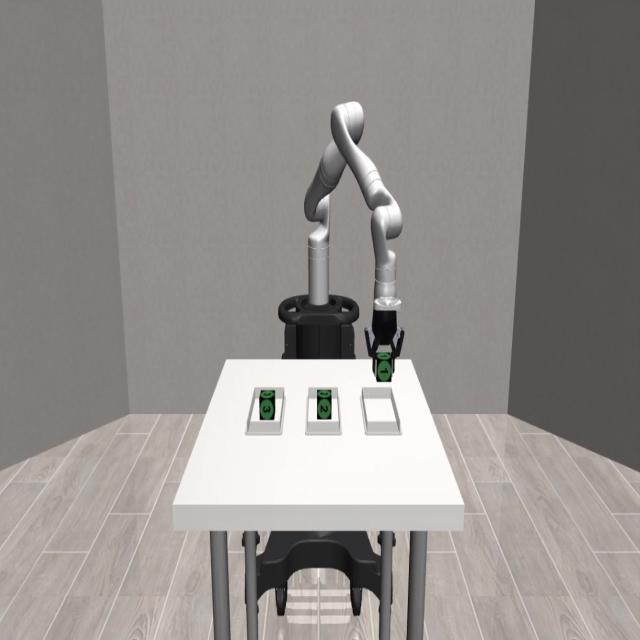cube1: (375, 349, 393, 384)
cube2: (316, 389, 332, 420)
cube3: (258, 388, 276, 421)
